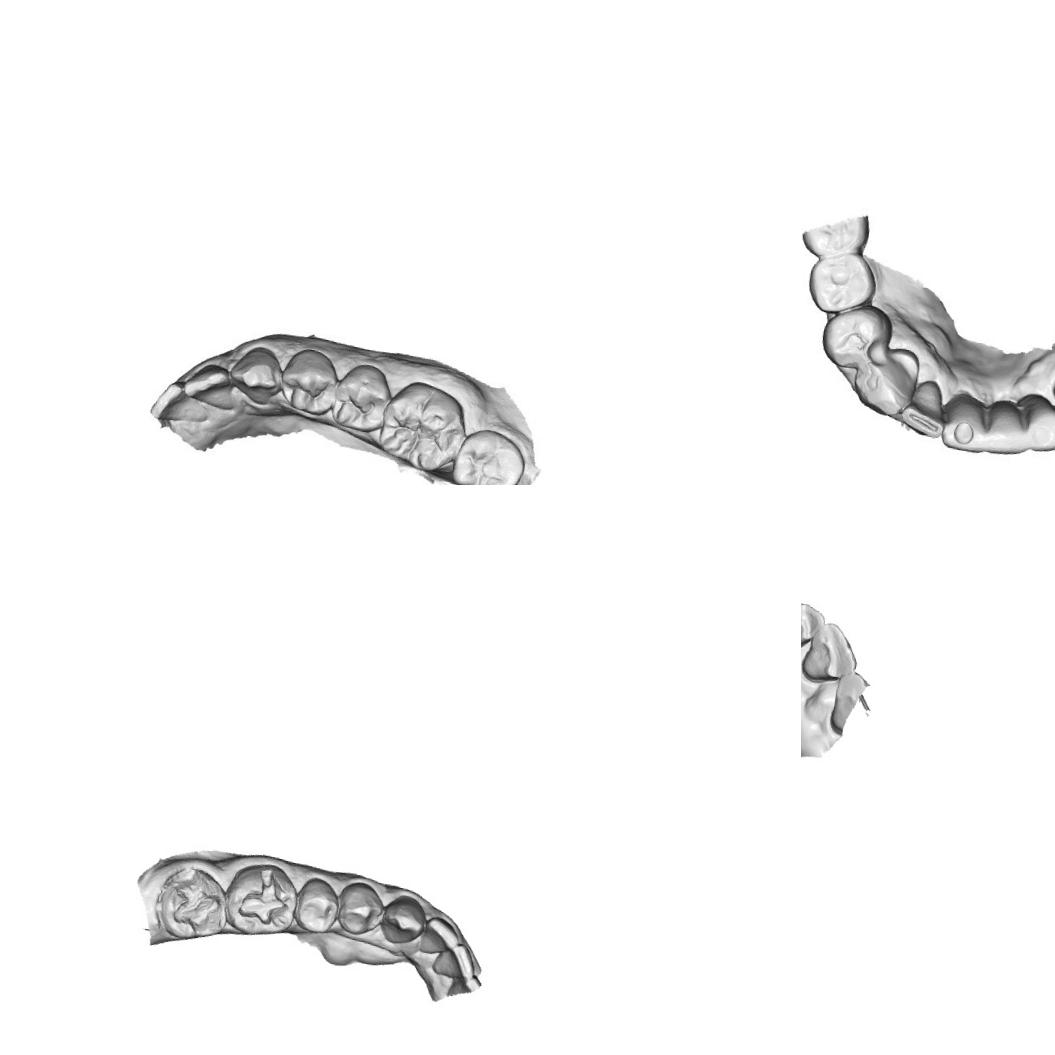canine: (849, 342, 922, 420), (230, 342, 288, 408), (376, 889, 430, 947)
incisor: (801, 616, 863, 687), (938, 391, 992, 455), (148, 376, 214, 428), (898, 376, 950, 441), (180, 359, 242, 413), (984, 397, 1034, 459), (1014, 389, 1055, 456), (429, 939, 480, 982), (418, 913, 464, 958), (801, 598, 828, 658)
inlay: (159, 864, 227, 940), (233, 864, 296, 931)
molar: (372, 378, 470, 477), (445, 423, 530, 485)
premolar: (816, 297, 896, 374), (804, 246, 881, 320), (328, 359, 393, 436), (278, 347, 341, 423), (291, 872, 343, 938), (334, 877, 388, 940)
